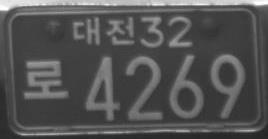2: (123, 54, 164, 122), (165, 15, 194, 49)
3: (138, 15, 164, 48)
4: (83, 54, 121, 121)
6: (167, 53, 205, 121)
9: (208, 52, 247, 120)
대전_O: (71, 16, 137, 47)
로: (22, 58, 70, 102)
